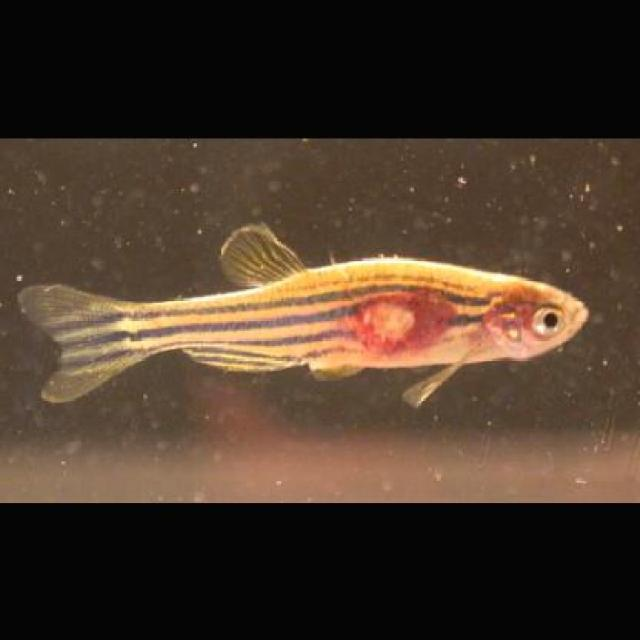ZebraFish: (25, 212, 588, 410)
